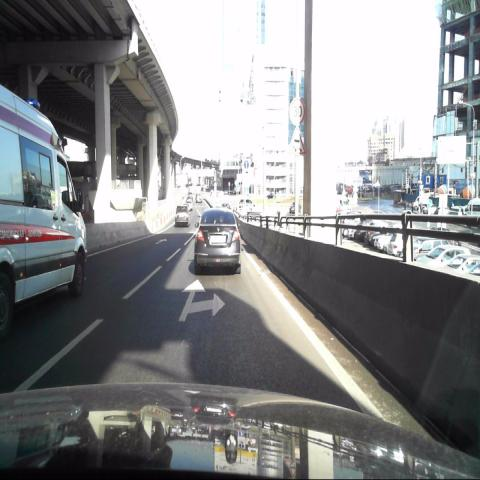1_15: (286, 126, 306, 155)
